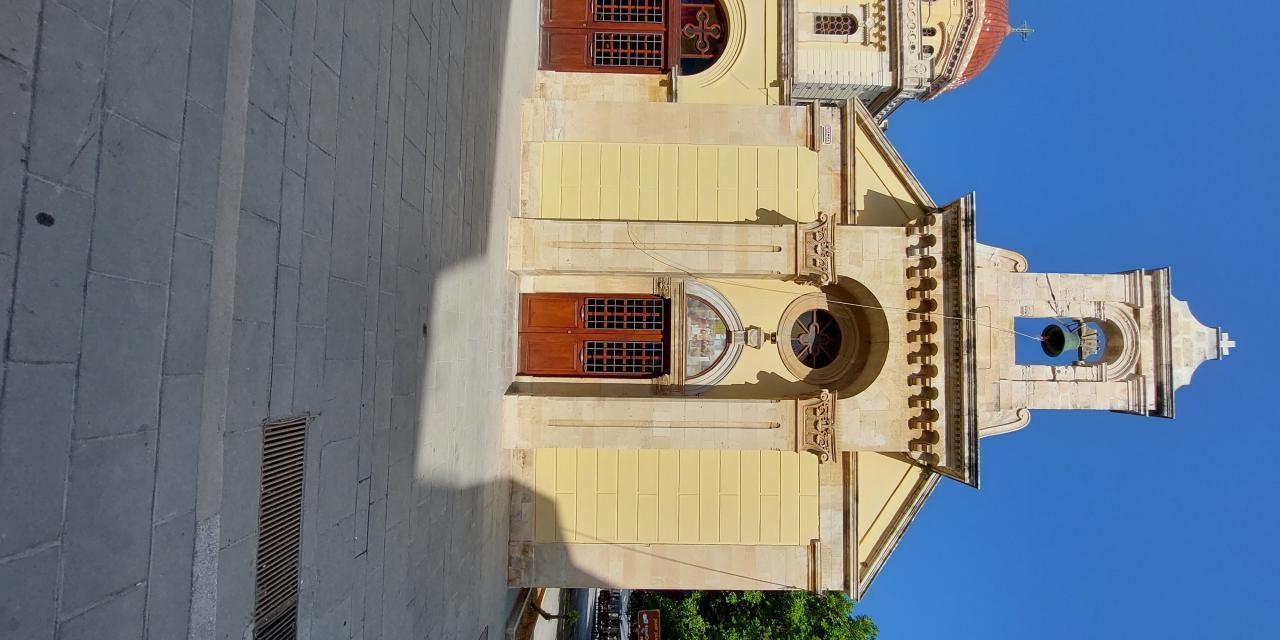Agios Minas: (705, 6, 1273, 640)
